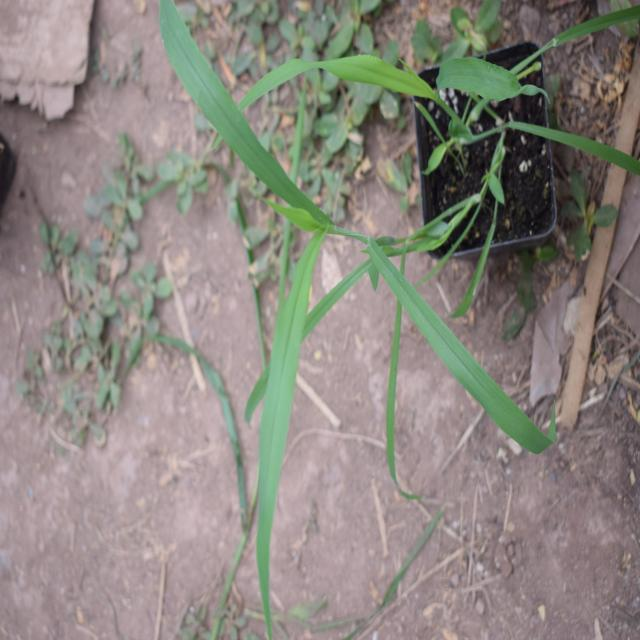crabgrass: (158, 11, 544, 585)
